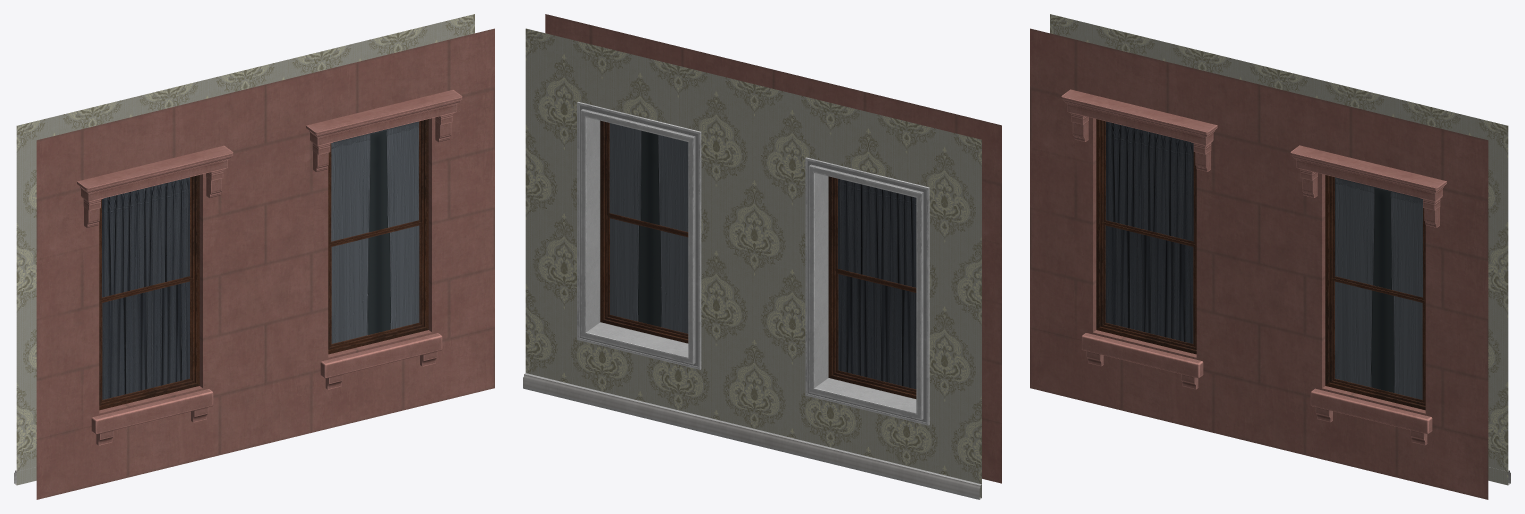
Rendered from House_04_Windows_01.fbx.
3 views of the same model, side by side, from view 1: azimuth 30°, elevation 25°; view 2: azimuth 150°, elevation 25°; view 3: azimuth 330°, elevation 25° (orthographic).
Visible parts, largest first — view 1: House_04_Windows_01_LOD0; view 2: House_04_Windows_01_LOD0; view 3: House_04_Windows_01_LOD0.
Part boxes in pixels (x1,y1,x2,y2): House_04_Windows_01_LOD0: (14, 14, 494, 499); House_04_Windows_01_LOD0: (523, 14, 1001, 499); House_04_Windows_01_LOD0: (1030, 14, 1510, 499).
Size of what is drawn, in the model's own units: 400 by 300 by 49.31.
